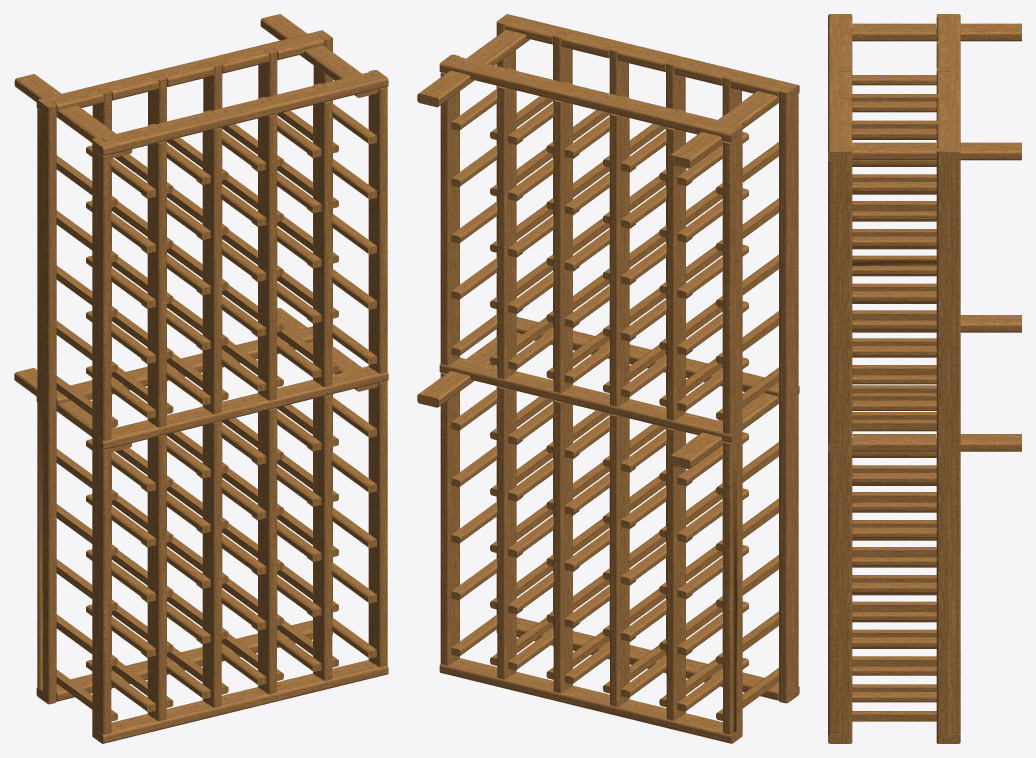
The model's file is VCKA0030.glb.
3 renders of one model, left to right at view 1: azimuth 30°, elevation 25°; view 2: azimuth 150°, elevation 25°; view 3: azimuth 270°, elevation 25°, orthographic. The views are drawn at different scales.
Parts seen in each view (by area): view 1: Mesh_0.001; view 2: Mesh_0.001; view 3: Mesh_0.001.
Part boxes in pixels (<box>): Mesh_0.001: <box>14,14,388,743</box>; Mesh_0.001: <box>417,14,799,743</box>; Mesh_0.001: <box>828,14,1021,743</box>.
Bounding box in the file's own units: 0.406 × 0.812 × 0.241.
Materials: 2 (2 with a texture image).
